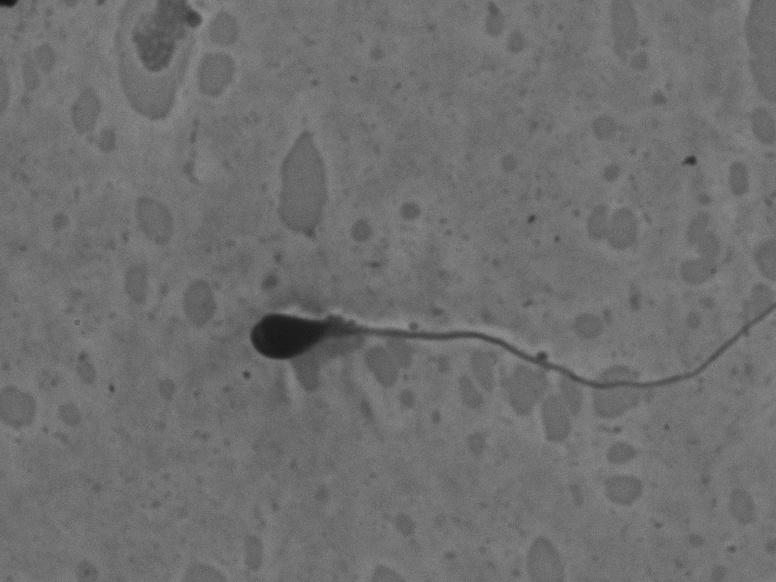Abnormal: (191, 249, 758, 443)
